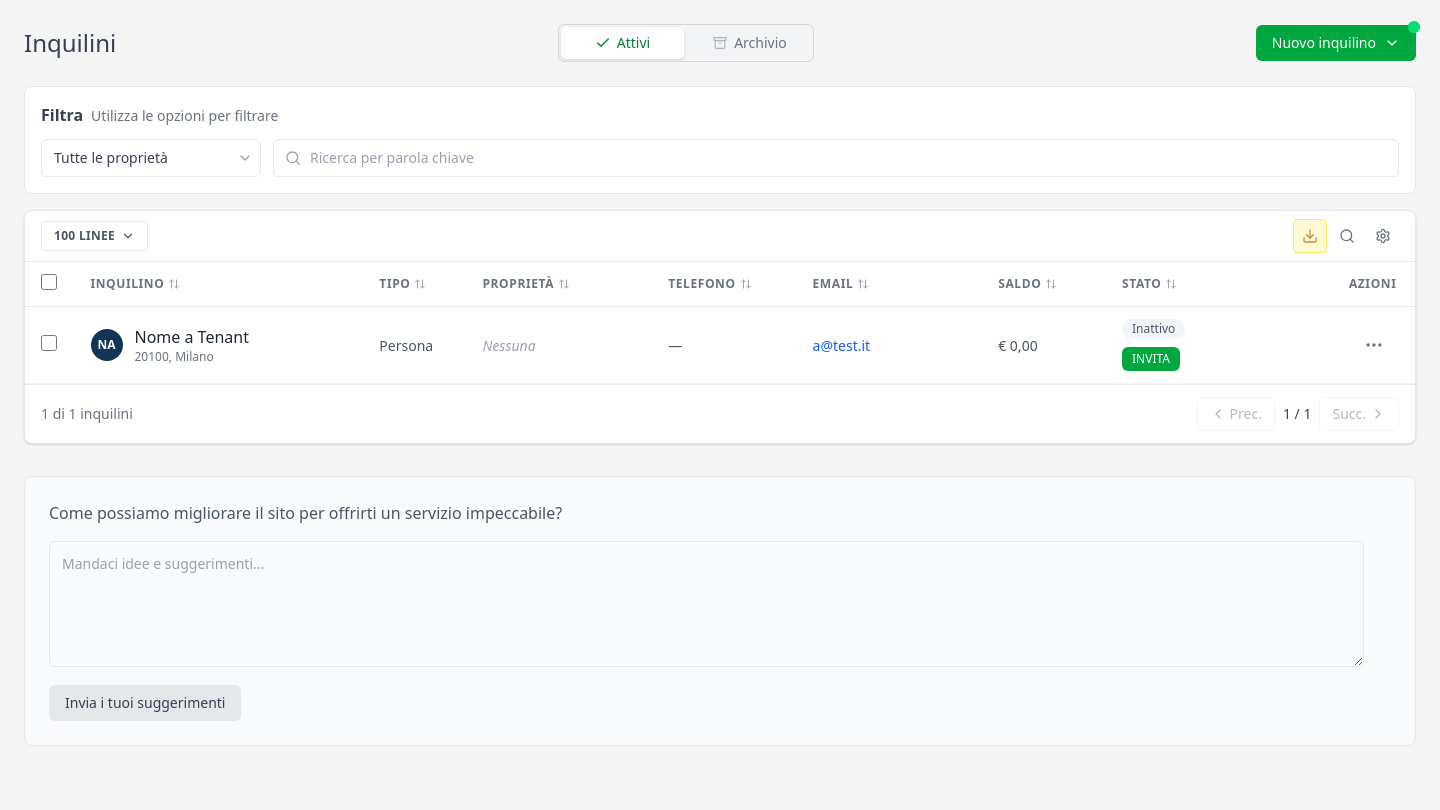
C5.4 lifecycle reale TenantsPage › single delete libero rimuove DB e chiude modal
Click the button named "Azioni per": coordinates (1374, 345) [1356, 327, 1392, 363]
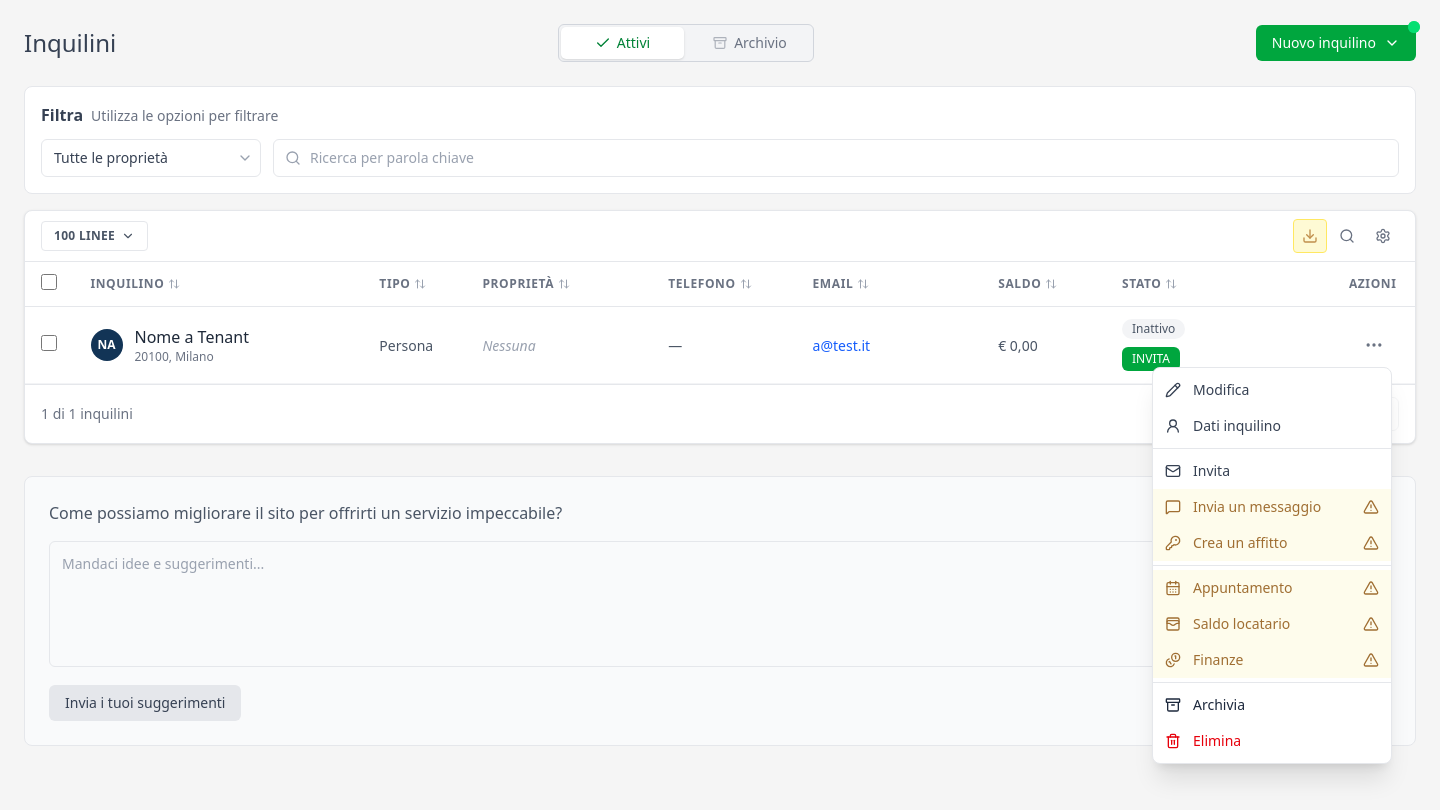
Click the menu item "Elimina": coordinates (1272, 741) [1153, 723, 1391, 759]
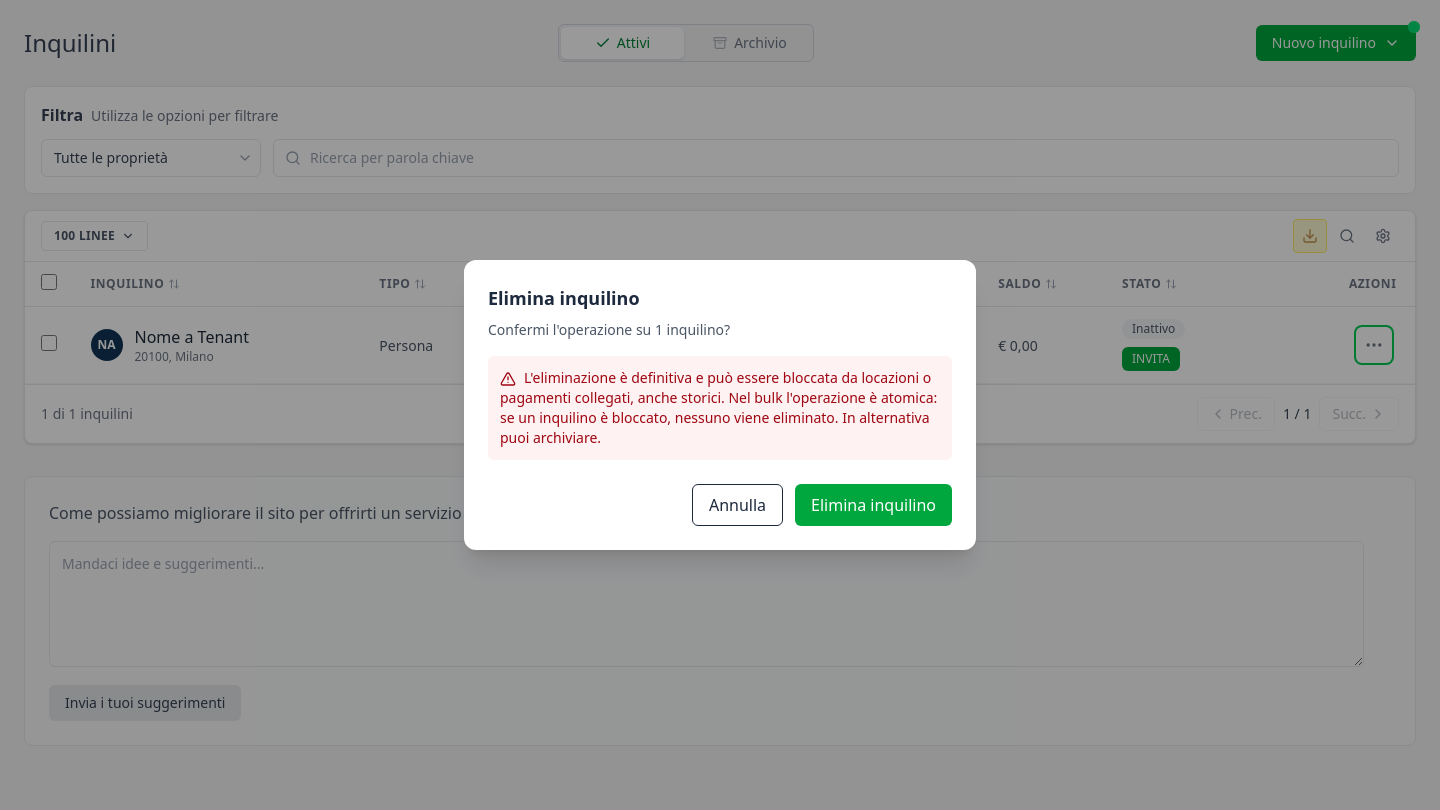
Click the button "Elimina inquilino": coordinates (874, 505) [795, 484, 952, 526]
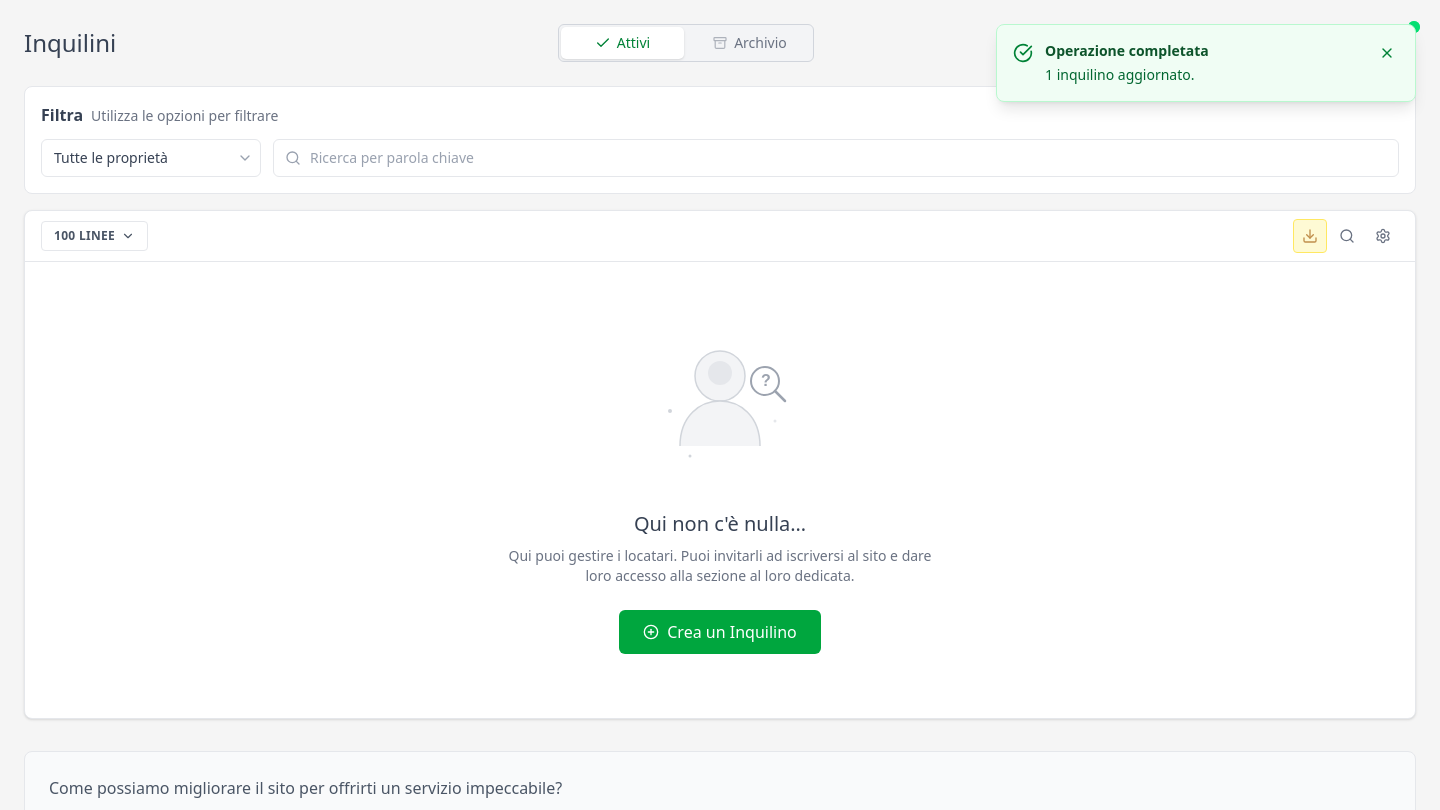
Result: the dialog is gone
Result: the message "Operazione completata 1 inquilino aggiornato." is shown at [996, 24, 1416, 102]
